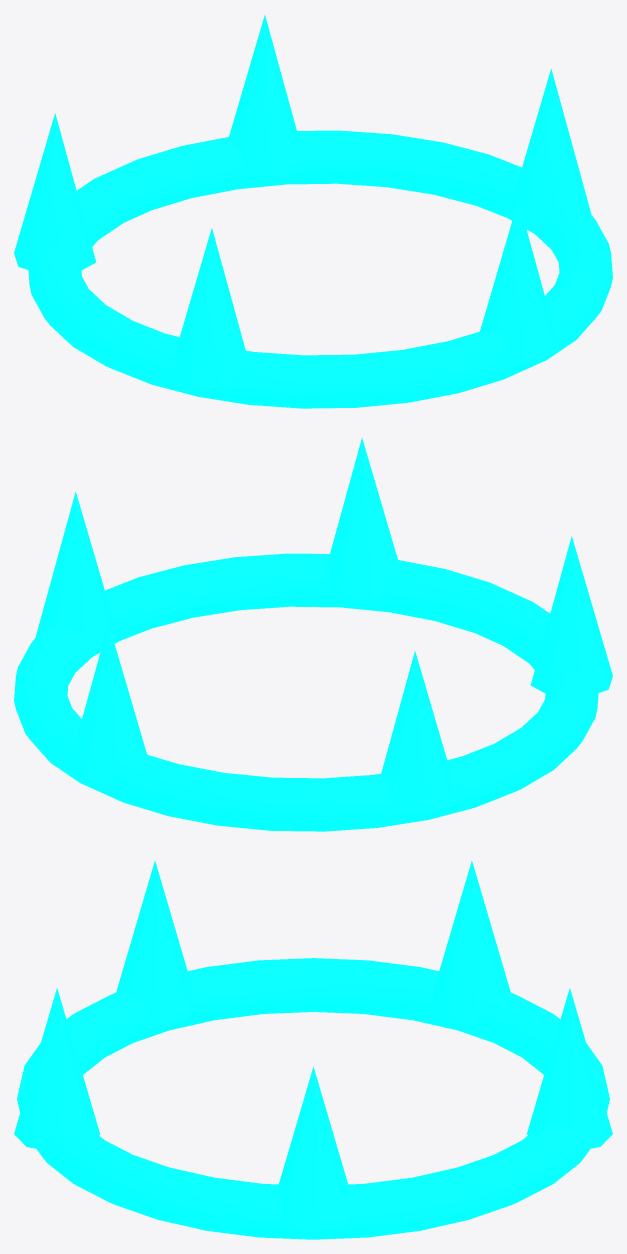
The model's file is eyes_plasma_spectacles.glb.
The picture shows the model from 3 angles, top to bottom: view 1: azimuth 30°, elevation 25°; view 2: azimuth 150°, elevation 25°; view 3: azimuth 270°, elevation 25°; orthographic projection.
Size of the model in its own units: 0.3164 by 0.098 by 0.3111.
